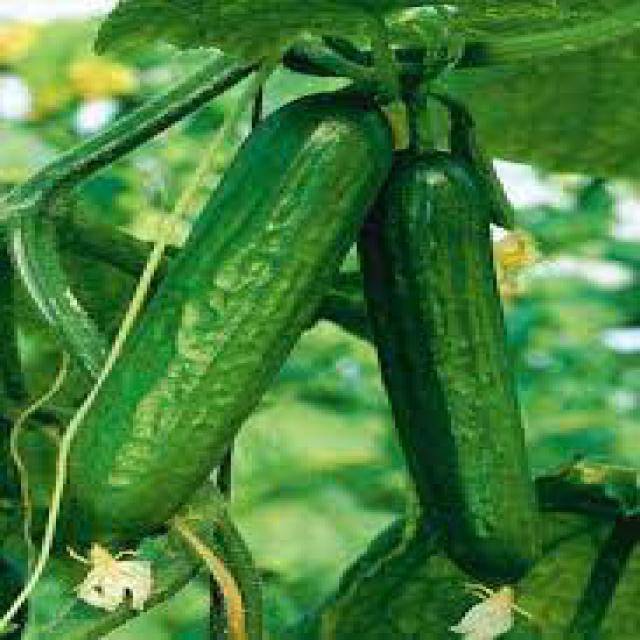cucumber: (59, 86, 360, 549), (363, 142, 542, 580)
